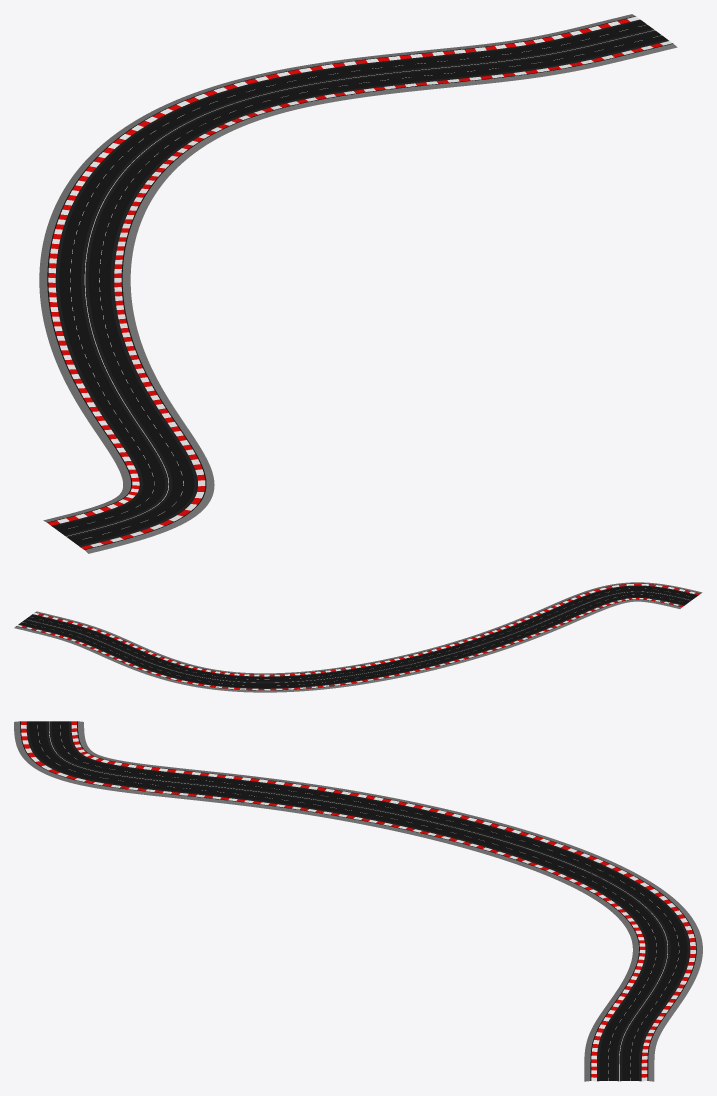
The model's file is S0.3c3-Cam.glb.
The picture shows the model from 3 angles, top to bottom: view 1: azimuth 30°, elevation 25°; view 2: azimuth 150°, elevation 25°; view 3: azimuth 270°, elevation 25°; orthographic projection. The views are drawn at different scales.
Visible parts, largest first — view 1: Grid; view 2: Grid; view 3: Grid.
Part boxes in pixels (x1=…): Grid: x1=39, y1=14, x2=677, y2=553; Grid: x1=14, y1=582, x2=702, y2=692; Grid: x1=14, y1=721, x2=702, y2=1081.
Bounding box in the file's own units: 303 × 0.31 × 246.
